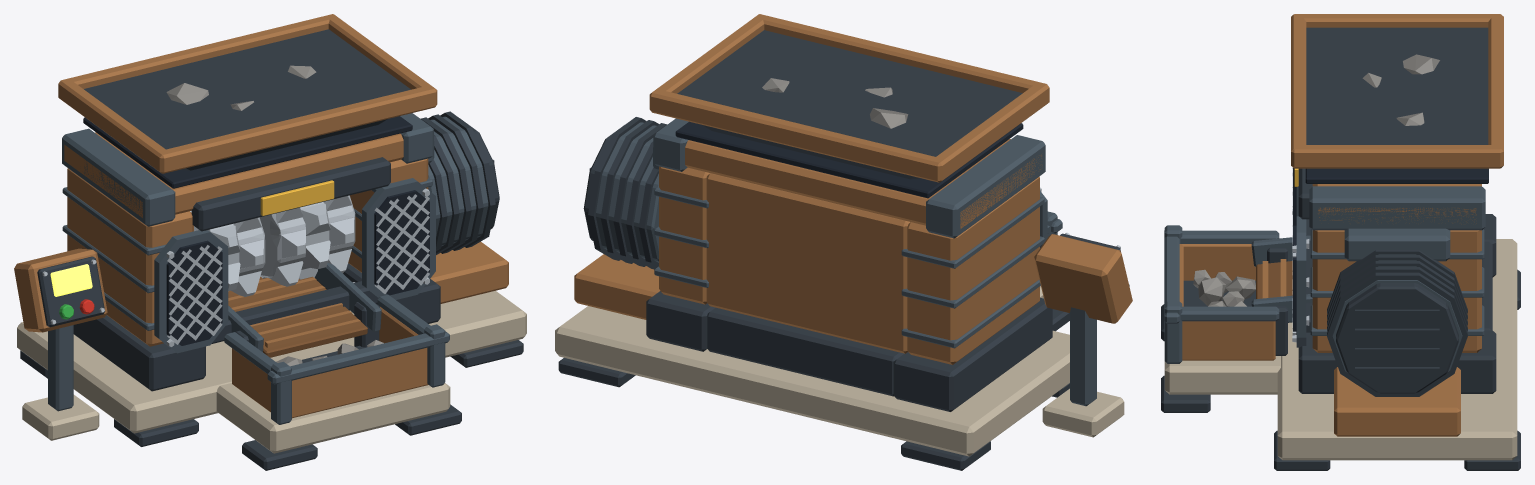
The model's file is Industrial_Crusher.fbx.
The picture shows the model from 3 angles, left to right: view 1: azimuth 30°, elevation 25°; view 2: azimuth 150°, elevation 25°; view 3: azimuth 270°, elevation 25°; orthographic projection. The views are drawn at different scales.
Parts seen in each view (by area): view 1: Wood, FrameDark, Frame, Concrete, Slate, RollerR, SteelLight, RollerL, WoodDark, Amber, HopperFill, Lamp; view 2: Wood, FrameDark, Concrete, Frame, Slate, HopperFill; view 3: FrameDark, Wood, Frame, Concrete, Slate, Fill.001, HopperFill, WoodDark, SteelLight.
Part boxes in pixels (x1,y1,x2,y2): Wood: (14, 14, 508, 418); FrameDark: (20, 29, 523, 470); Frame: (48, 113, 488, 424); Concrete: (17, 290, 526, 453); Slate: (83, 116, 429, 345); RollerR: (259, 195, 355, 286); SteelLight: (42, 188, 429, 346); RollerL: (190, 211, 265, 296); WoodDark: (228, 276, 367, 357); Amber: (260, 180, 334, 215); HopperFill: (166, 65, 316, 110); Lamp: (50, 264, 92, 296); Wood: (574, 14, 1132, 364); FrameDark: (558, 30, 1120, 470); Concrete: (555, 286, 1124, 456); Frame: (596, 118, 1096, 406); Slate: (675, 121, 1023, 198); HopperFill: (762, 78, 908, 128); FrameDark: (1161, 27, 1520, 470); Wood: (1179, 14, 1503, 436); Frame: (1164, 186, 1485, 372); Concrete: (1164, 239, 1517, 460); Slate: (1293, 168, 1488, 334); Fill.001: (1193, 269, 1255, 306); HopperFill: (1362, 54, 1439, 125); WoodDark: (1256, 261, 1292, 298); SteelLight: (1292, 167, 1309, 342).
Size of the model in its own units: 7.82 by 4.44 by 5.1.
